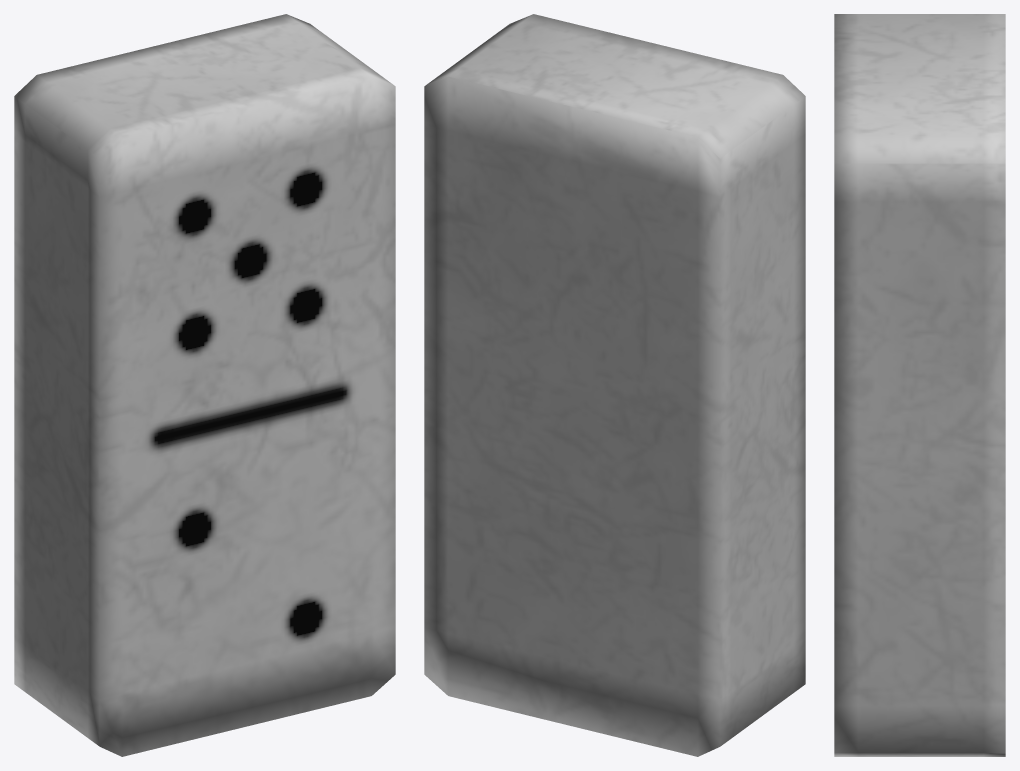
The model's file is Prop_Domino.obj.
The picture shows the model from 3 angles, left to right: view 1: azimuth 30°, elevation 25°; view 2: azimuth 150°, elevation 25°; view 3: azimuth 270°, elevation 25°; orthographic projection.
Parts seen in each view (by area): view 1: Prop_Domino_Cube; view 2: Prop_Domino_Cube; view 3: Prop_Domino_Cube.
Boxes of the visible parts, x1,y1,x2,y2 form: Prop_Domino_Cube: [14, 14, 395, 756]; Prop_Domino_Cube: [424, 14, 805, 756]; Prop_Domino_Cube: [834, 14, 1005, 756].
Size of the model in its own units: 2 by 4 by 1.
Materials: 1 (1 with a texture image).
